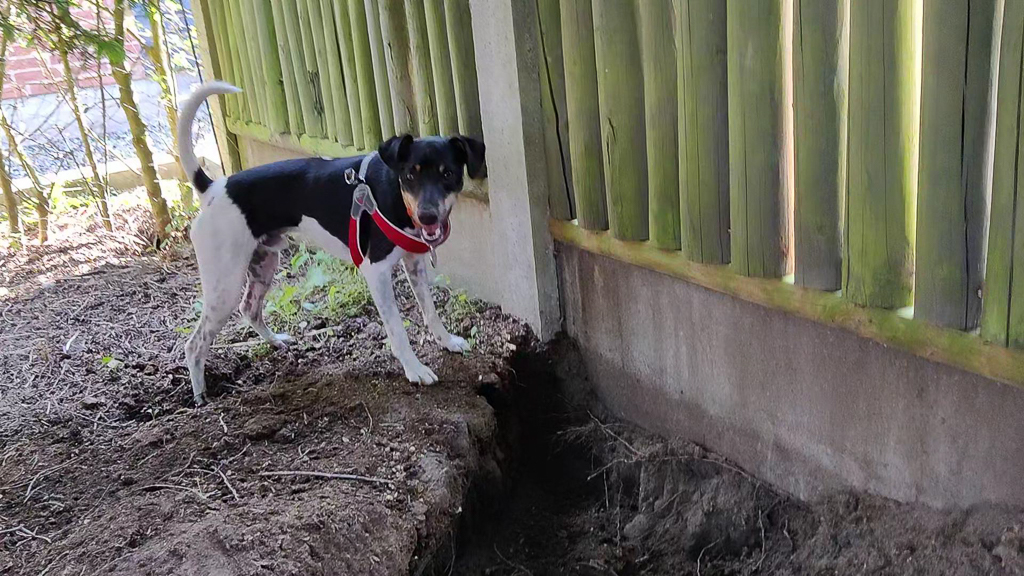Dog: (159, 64, 511, 412)
